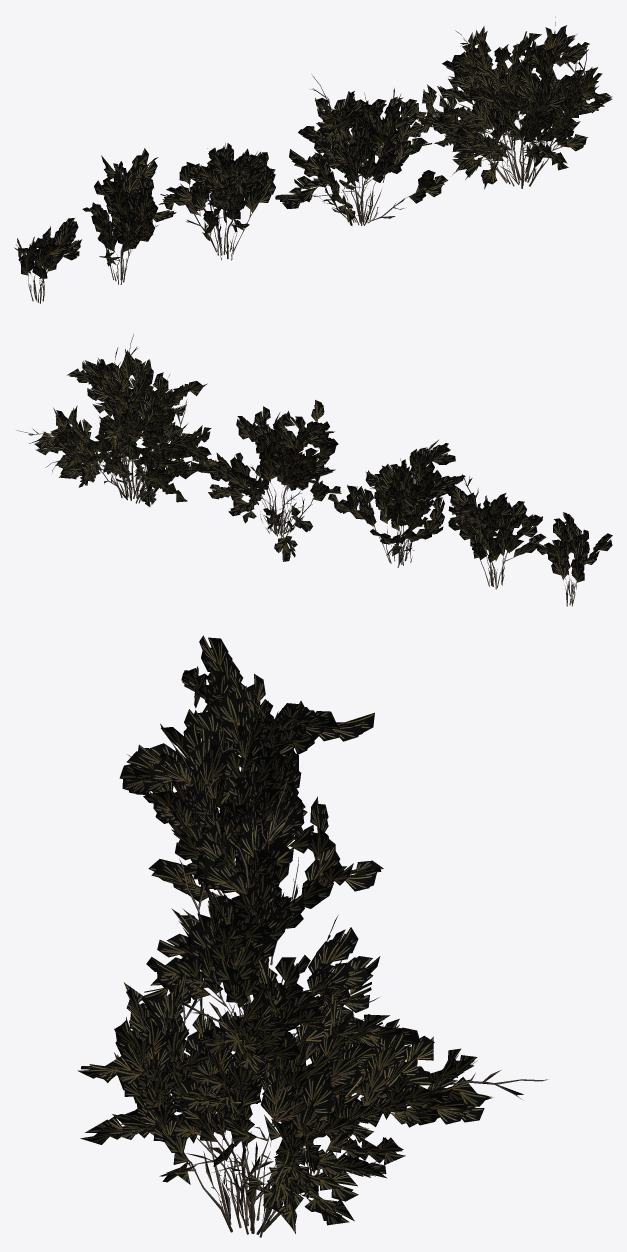
Rendered from wild_rooibos_bush.glb.
The picture shows the model from 3 angles, top to bottom: view 1: azimuth 30°, elevation 25°; view 2: azimuth 150°, elevation 25°; view 3: azimuth 270°, elevation 25°; orthographic projection. The views are drawn at different scales.
Parts seen in each view (by area): view 1: wild_rooibos_bush_a, wild_rooibos_bush_b, wild_rooibos_bush_c, wild_rooibos_bush_d, wild_rooibos_bush_e; view 2: wild_rooibos_bush_a, wild_rooibos_bush_b, wild_rooibos_bush_c, wild_rooibos_bush_d, wild_rooibos_bush_e; view 3: wild_rooibos_bush_a, wild_rooibos_bush_b, wild_rooibos_bush_c, wild_rooibos_bush_d, wild_rooibos_bush_e.
Part boxes in pixels (bbox=[...]): wild_rooibos_bush_a: bbox=[397, 17, 612, 189]; wild_rooibos_bush_b: bbox=[275, 75, 447, 225]; wild_rooibos_bush_c: bbox=[158, 143, 275, 260]; wild_rooibos_bush_d: bbox=[82, 148, 176, 284]; wild_rooibos_bush_e: bbox=[14, 218, 81, 303]; wild_rooibos_bush_a: bbox=[16, 334, 218, 506]; wild_rooibos_bush_b: bbox=[201, 400, 341, 561]; wild_rooibos_bush_c: bbox=[328, 440, 465, 567]; wild_rooibos_bush_d: bbox=[445, 474, 546, 589]; wild_rooibos_bush_e: bbox=[537, 512, 612, 606]; wild_rooibos_bush_a: bbox=[77, 959, 547, 1237]; wild_rooibos_bush_b: bbox=[129, 780, 380, 1052]; wild_rooibos_bush_c: bbox=[119, 722, 383, 965]; wild_rooibos_bush_d: bbox=[160, 674, 374, 865]; wild_rooibos_bush_e: bbox=[181, 635, 272, 755].
Bounding box in the file's own units: 2.27 × 0.541 × 0.8432.
Materials: 2 (2 with a texture image).
